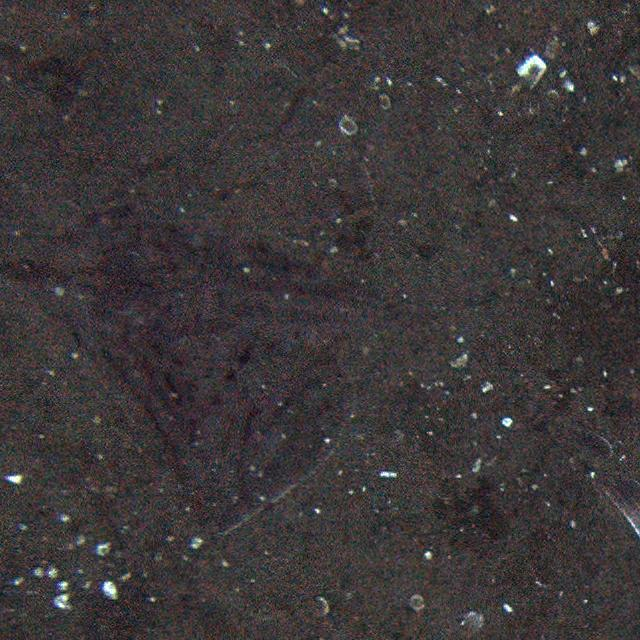skate: (43, 95, 381, 529)
